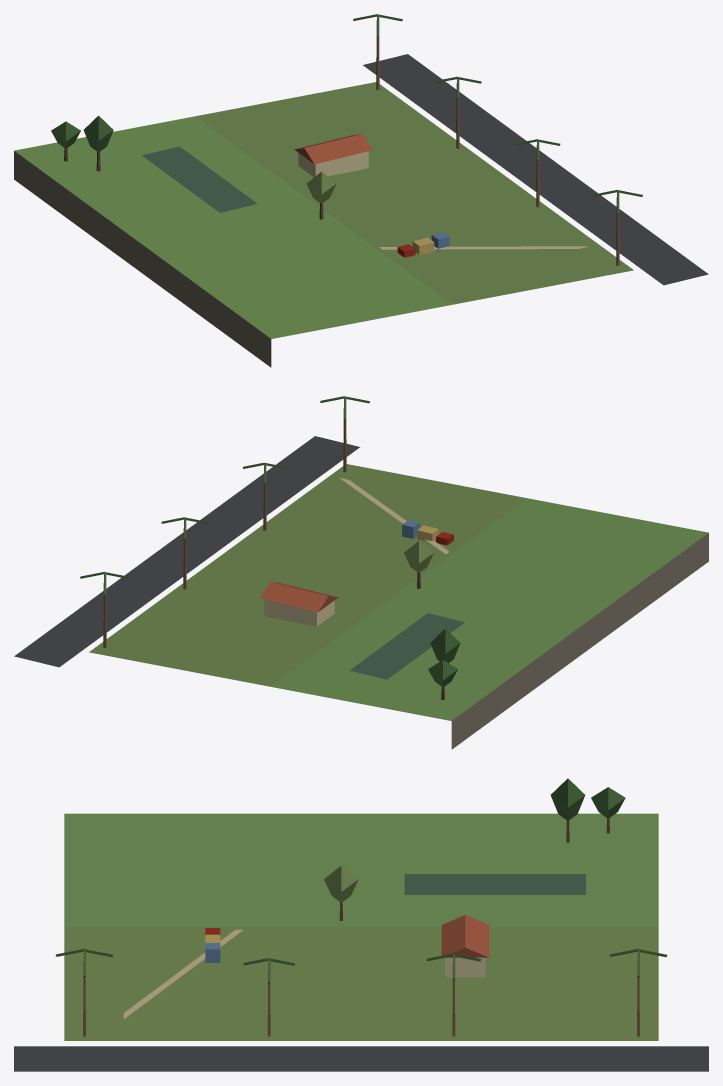
File: mobile-low.glb
The picture shows the model from 3 angles, top to bottom: view 1: azimuth 30°, elevation 25°; view 2: azimuth 150°, elevation 25°; view 3: azimuth 270°, elevation 25°; orthographic projection. The views are drawn at different scales.
Visible parts, largest first — view 1: lm.dolores-park; view 2: lm.dolores-park; view 3: lm.dolores-park.
Boxes of the visible parts, x1,y1,x2,y2 form: lm.dolores-park: (14, 14, 708, 367); lm.dolores-park: (14, 396, 708, 749); lm.dolores-park: (14, 778, 708, 1071).
Bounding box in the file's own units: 110 × 21.46 × 138.
